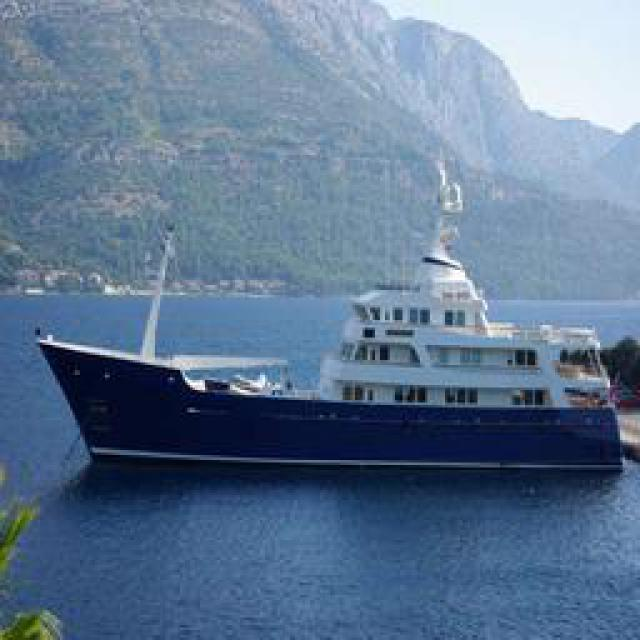Ship: (35, 238, 628, 476)
